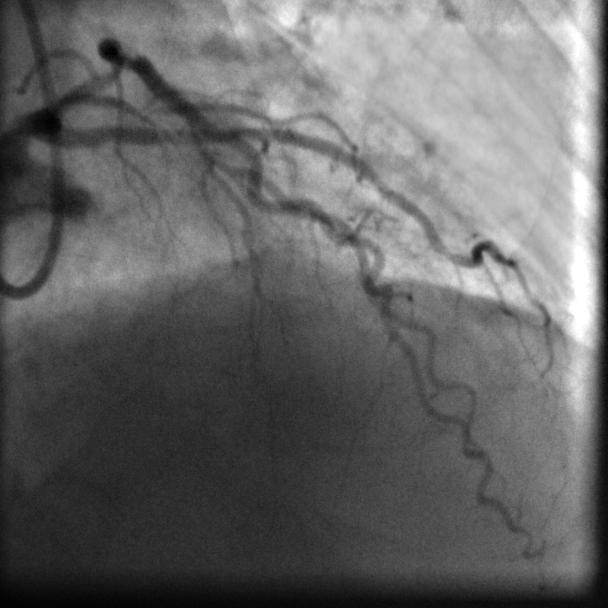Stenosis: (107, 39, 149, 84)
